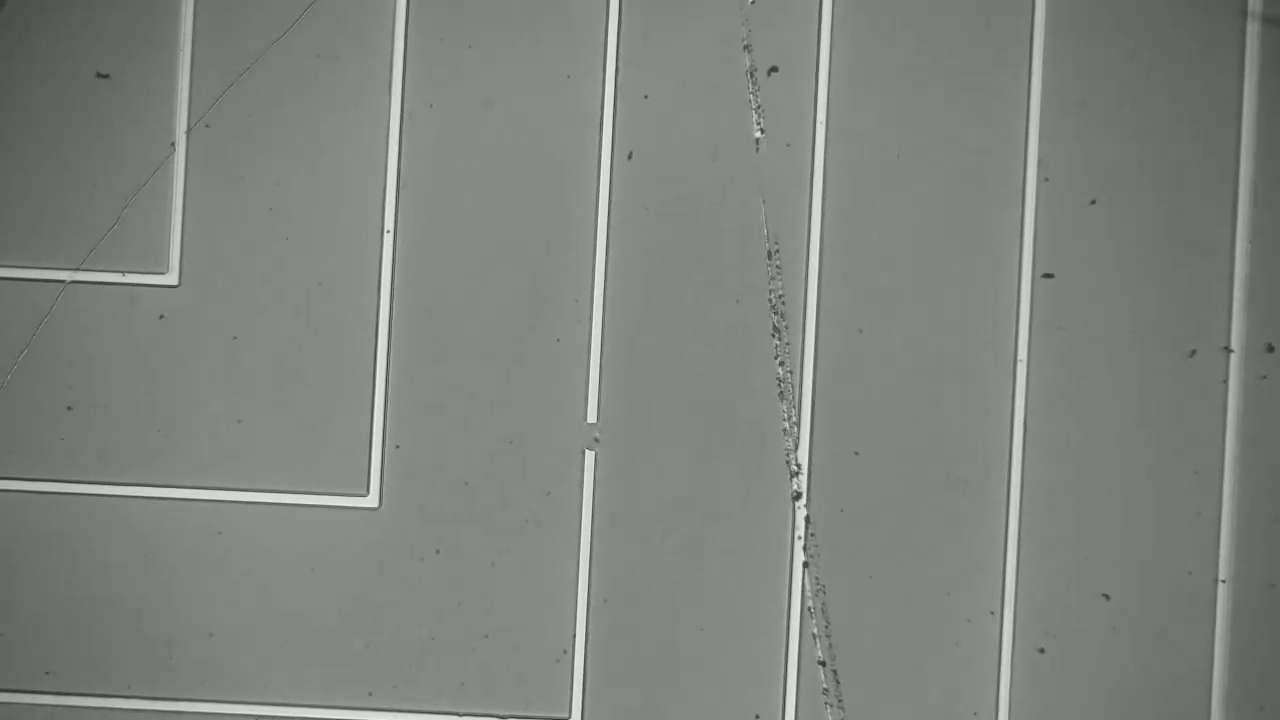open: (573, 401, 613, 463)
scratch: (8, 12, 318, 376), (721, 1, 848, 710)
